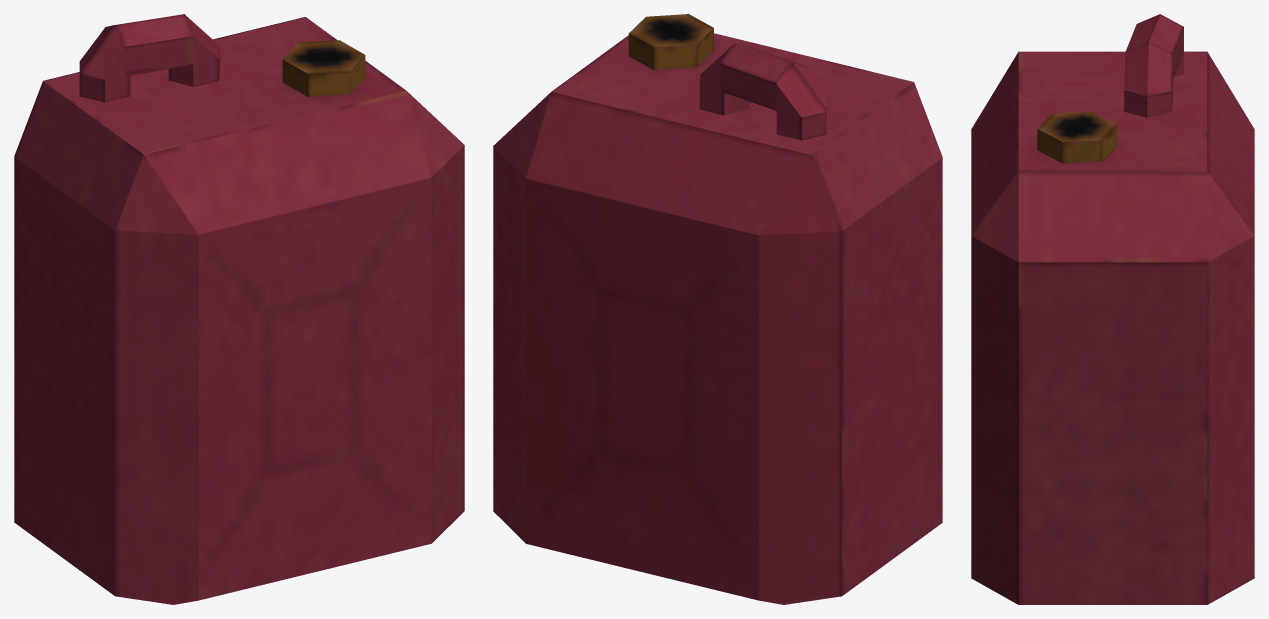
The model's file is gas_can.glb.
The picture shows the model from 3 angles, left to right: view 1: azimuth 30°, elevation 25°; view 2: azimuth 150°, elevation 25°; view 3: azimuth 270°, elevation 25°; orthographic projection. The views are drawn at different scales.
Parts seen in each view (by area): view 1: canister, handle, lid; view 2: canister, handle, lid; view 3: canister, handle, lid.
Boxes of the visible parts, left/top/right/bottom form: canister: left=14, top=17, right=464, bottom=604; handle: left=79, top=14, right=219, bottom=102; lid: left=282, top=40, right=365, bottom=96; canister: left=493, top=33, right=942, bottom=604; handle: left=699, top=43, right=826, bottom=140; lid: left=628, top=14, right=713, bottom=70; canister: left=971, top=51, right=1254, bottom=604; handle: left=1124, top=14, right=1183, bottom=117; lid: left=1037, top=111, right=1117, bottom=163.
Bounding box in the file's own units: 0.5 × 0.7111 × 0.375.
Materials: 1 (1 with a texture image).
